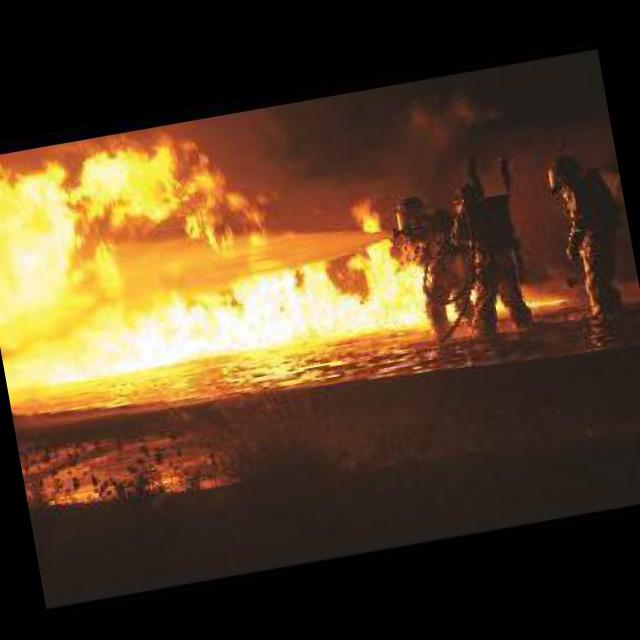fire: (0, 85, 422, 407)
